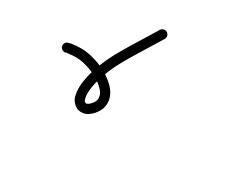a: (51, 32, 115, 124)
t: (96, 22, 181, 81)
